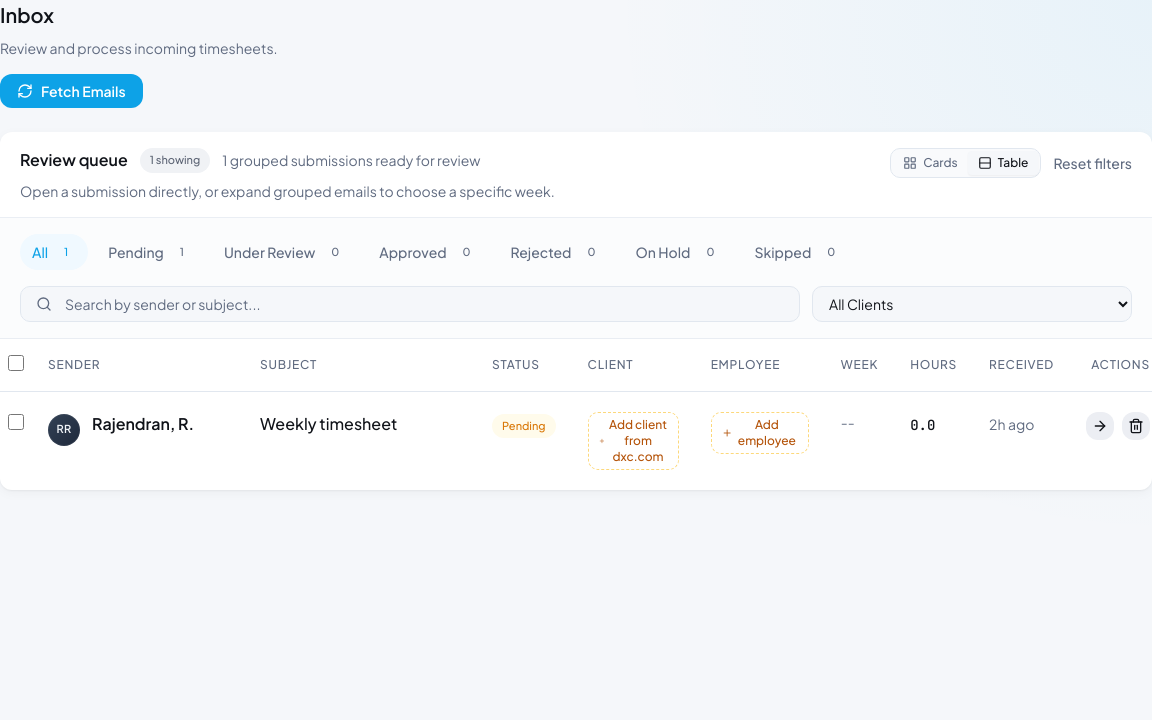
Test case: InboxPage — table layout › opens the cascade popover when the inline create button is clicked
Step 1. Click the button "Add client from dxc.com" → coordinates (633, 440), box top-left (588, 412), bottom-right (679, 470)
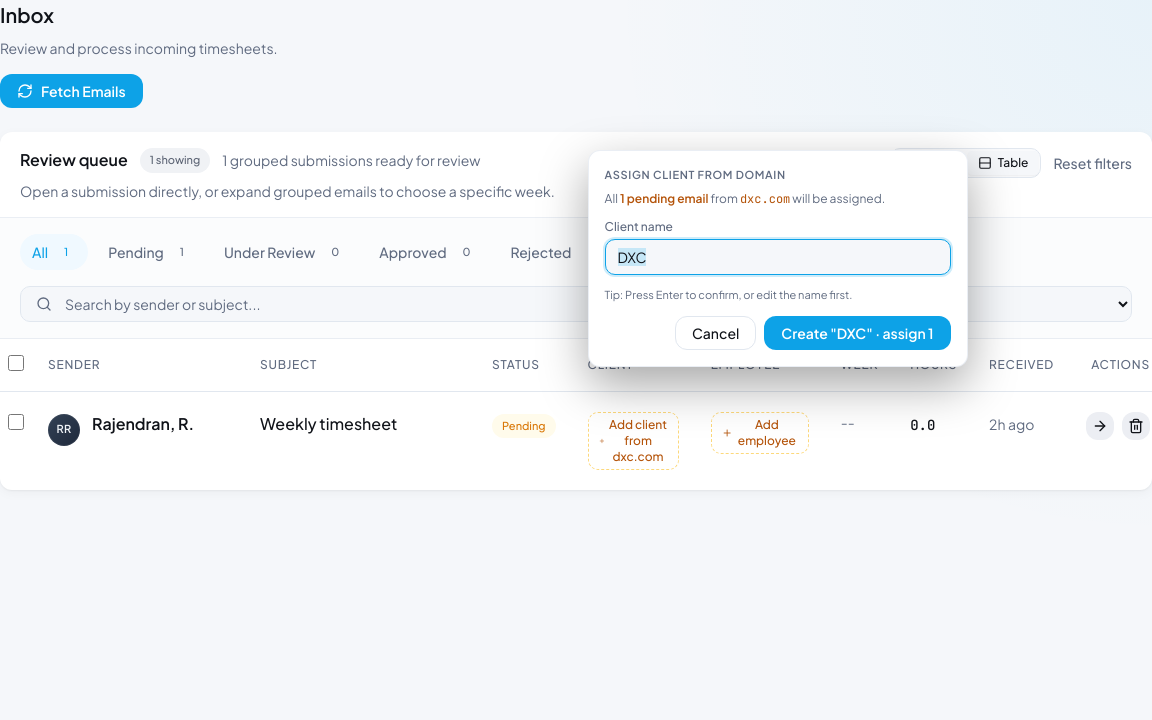
Expected: the dialog "Assign client from domain" is shown, top-left (588, 150), bottom-right (968, 366)
Expected: the field labelled "Client name" holds "DXC", top-left (605, 239), bottom-right (951, 275)
Expected: the button "Create \"DXC\" · assign 1" is shown, top-left (764, 316), bottom-right (951, 350)
